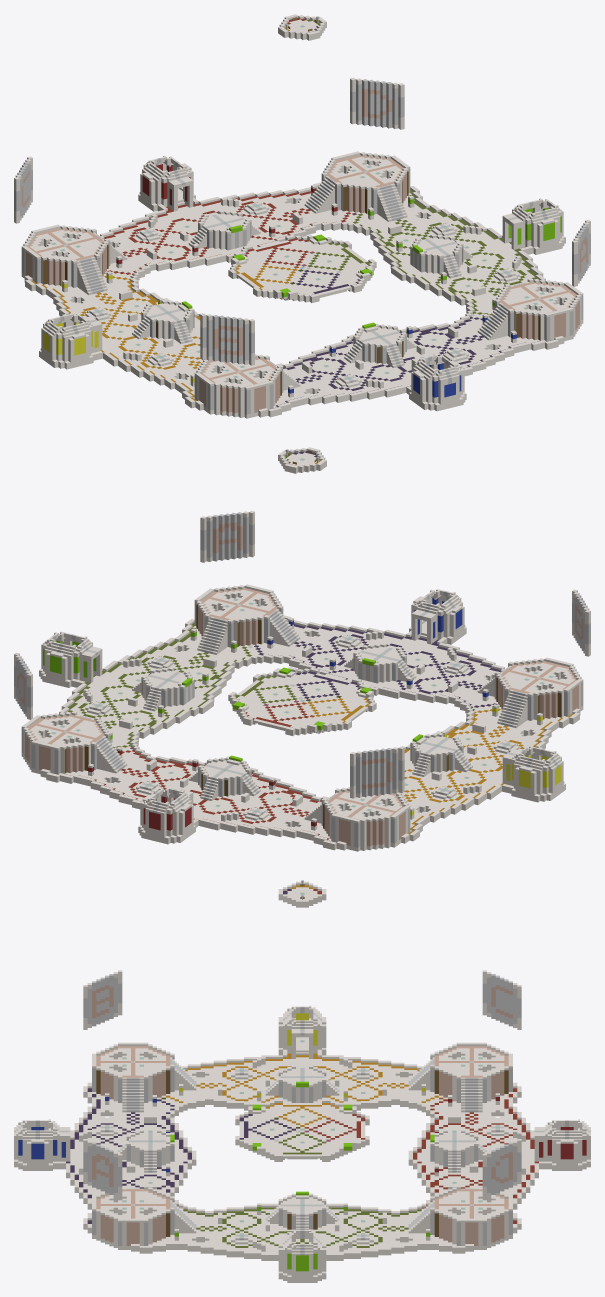
The model's file is minecraft.obj.
The picture shows the model from 3 angles, top to bottom: view 1: azimuth 30°, elevation 25°; view 2: azimuth 150°, elevation 25°; view 3: azimuth 270°, elevation 25°; orthographic projection. The views are drawn at different scales.
Size of the model in its own units: 133 by 70 by 133.
